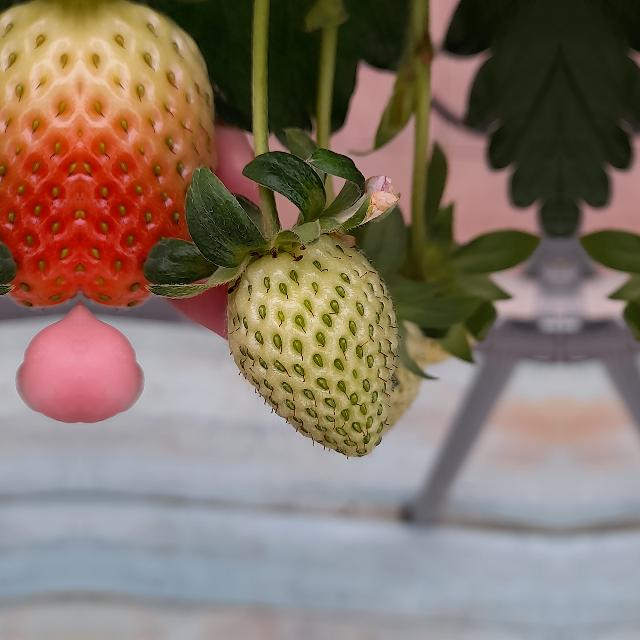Health_100: (80, 0, 220, 312), (0, 0, 80, 312)
Health_25: (226, 234, 398, 456)
